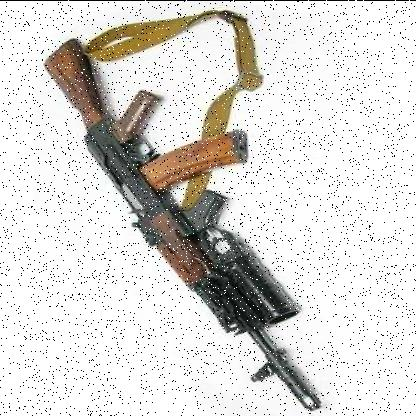rifle: (26, 38, 347, 414)
